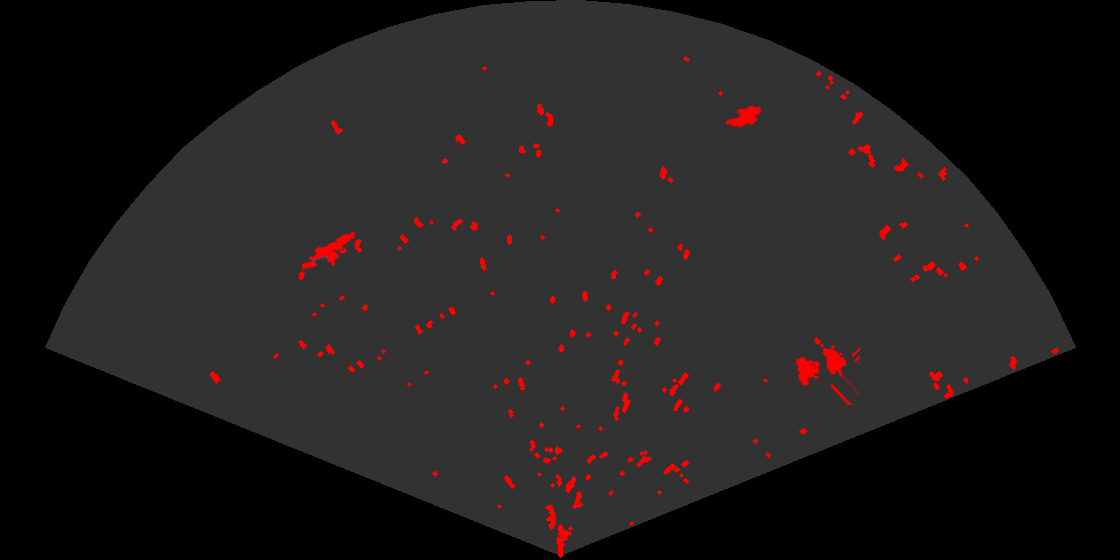AUV: (723, 103, 763, 129)
cage: (794, 342, 860, 405)
frogman: (302, 230, 358, 271)
